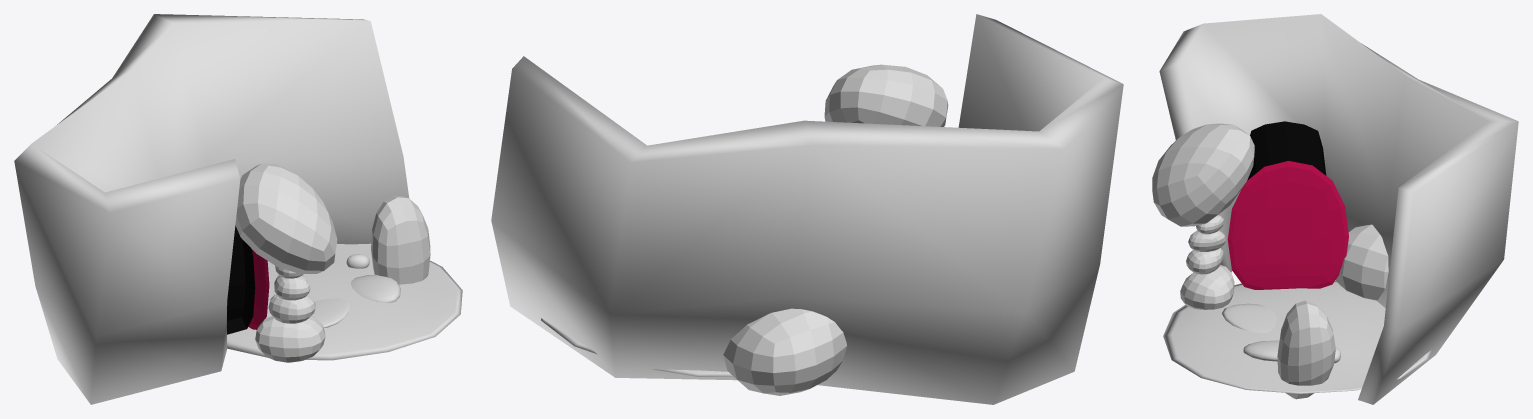
3 renders of one model, left to right at view 1: azimuth 30°, elevation 25°; view 2: azimuth 150°, elevation 25°; view 3: azimuth 270°, elevation 25°, orthographic. The views are drawn at different scales.
Visible parts, largest first — view 1: cube.003-col, door-col; view 2: cube.003-col; view 3: cube.003-col, door-col.
Part boxes in pixels (x1,y1,x2,y2): cube.003-col: [14, 14, 462, 404]; door-col: [248, 249, 269, 329]; cube.003-col: [491, 14, 1123, 404]; cube.003-col: [1152, 14, 1518, 404]; door-col: [1227, 161, 1348, 289].
Bounding box in the file's own units: 5.3 × 2.94 × 4.24.
